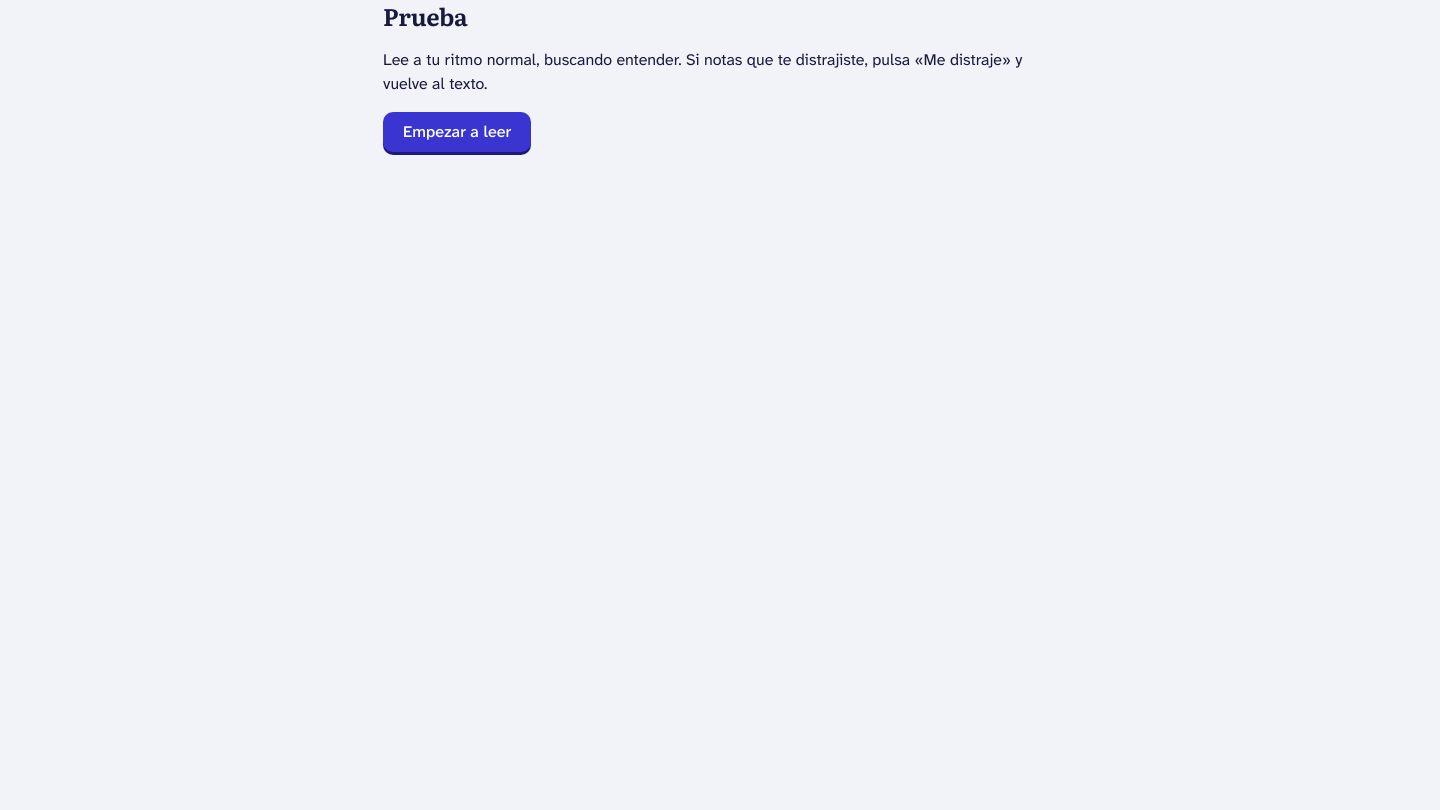
Scenario: ReadingView › muestra un sondeo de atención al vencer el intervalo y lo cierra al responder
Later steps or results of the test are not shown.
Click the button "Empezar a leer" at coordinates (457, 132), box [383, 112, 531, 152]
Wait 45000 ms
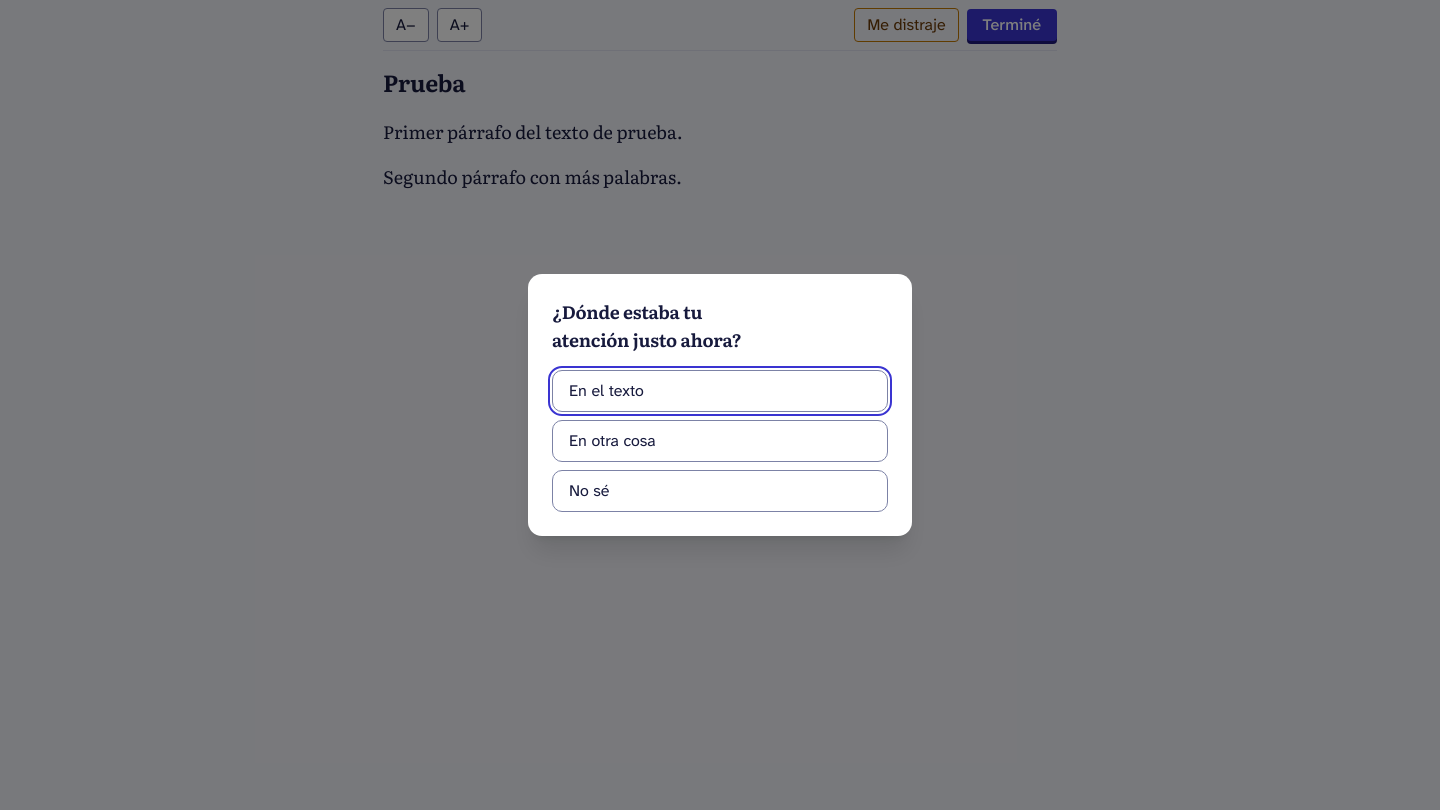
Expected: the dialog is shown, [528, 274, 912, 536]
Click the button "En el texto" at coordinates (606, 390), box [552, 370, 888, 412]
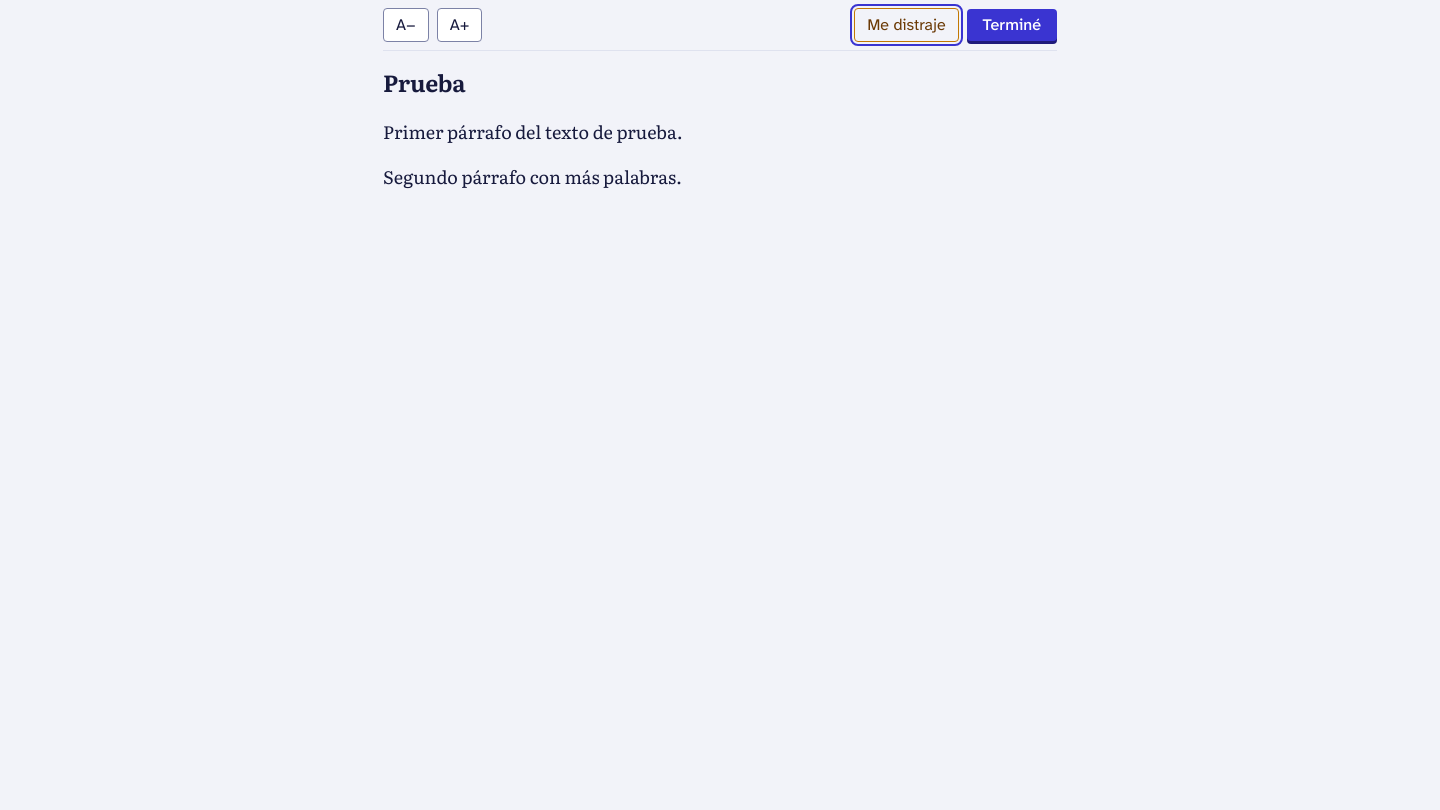
Expected: the dialog is gone
